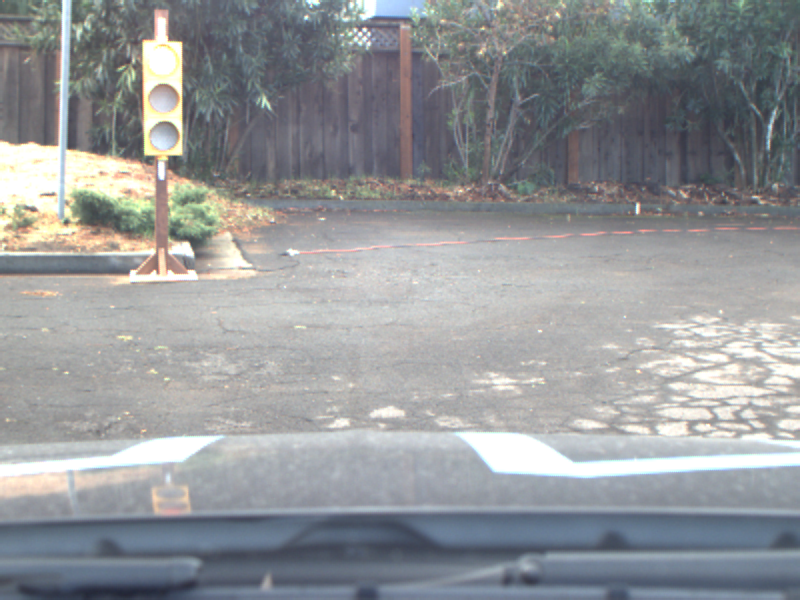Red: (142, 40, 183, 156)
